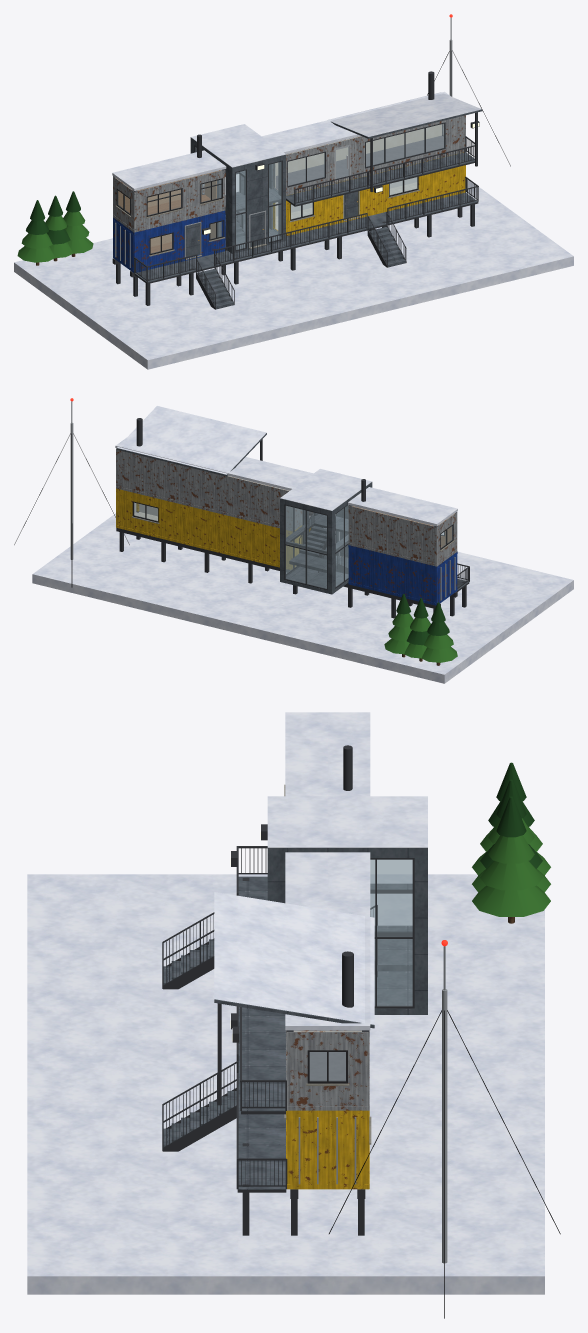
Rendered from b_station_arctic.gltf.
The picture shows the model from 3 angles, top to bottom: view 1: azimuth 30°, elevation 25°; view 2: azimuth 150°, elevation 25°; view 3: azimuth 270°, elevation 25°; orthographic projection. The views are drawn at different scales.
Parts seen in each view (by area): view 1: S_station_arctic, D_station_arctic_Bunks_S1_Door0, D_station_arctic_Tower_S1_Door0, D_station_arctic_Comms_S1_Door0; view 2: S_station_arctic; view 3: S_station_arctic.
Part boxes in pixels (<box>): S_station_arctic: <box>14,14,573,369</box>; D_station_arctic_Bunks_S1_Door0: <box>185,223,199,256</box>; D_station_arctic_Tower_S1_Door0: <box>250,212,264,246</box>; D_station_arctic_Comms_S1_Door0: <box>335,146,349,180</box>; S_station_arctic: <box>14,398,573,683</box>; S_station_arctic: <box>27,712,560,1318</box>.
Bounding box in the file's own units: 31.64 × 11.25 × 15.97.
26 materials, 12 textured.
